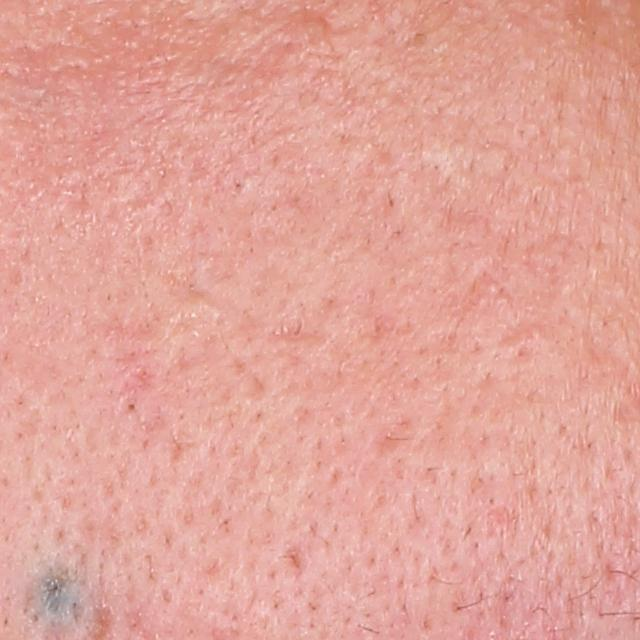other: (26, 543, 87, 633)
